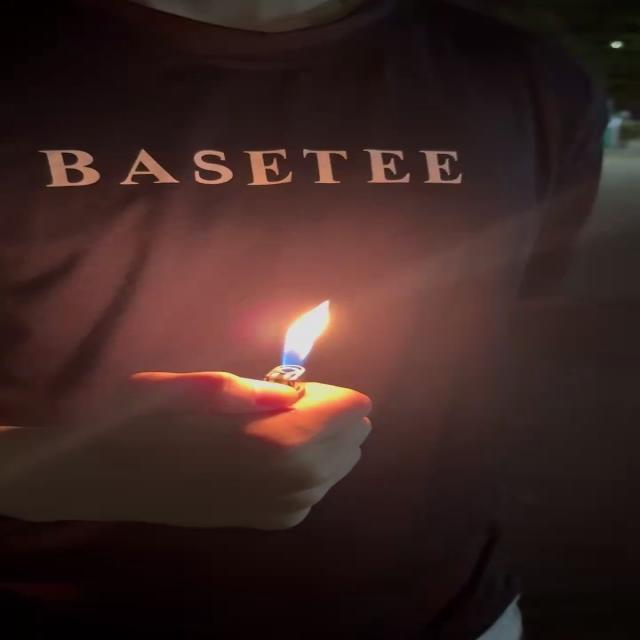Fire: (279, 299, 334, 378)
